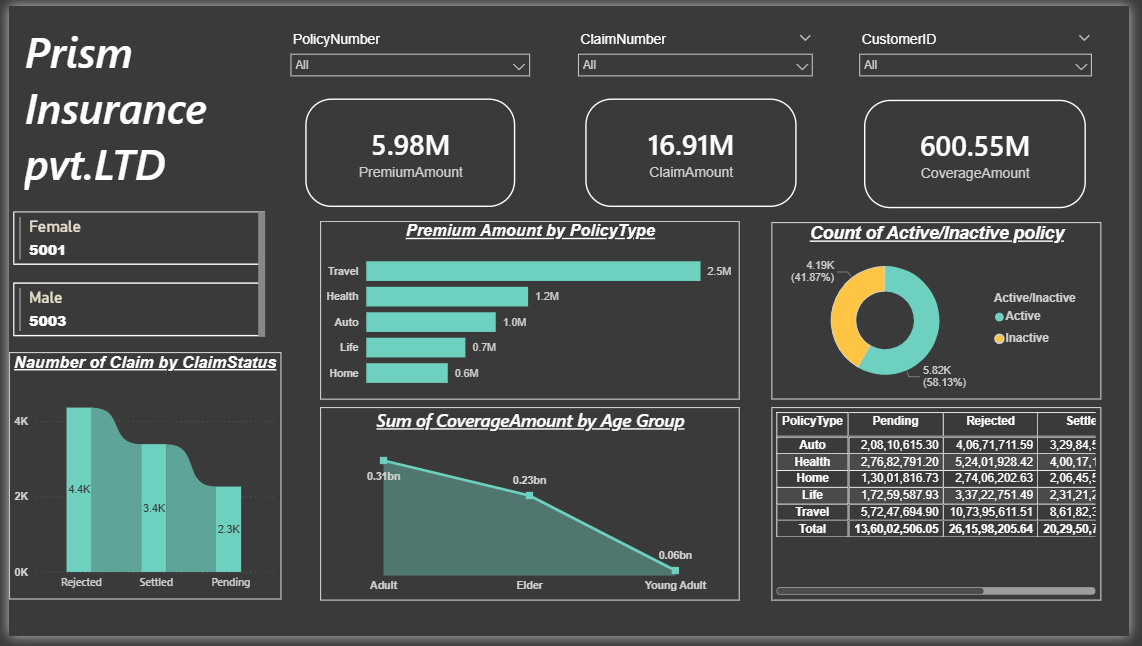

The dashboard page shown, as its layout file describes it:
{"tool":"powerbi","page":{"name":"Page 1","canvas":[1280,720],"ordinal":0},"visuals":[{"type":"slicer","fields":{"Values":["InsuranceData.PolicyNumber"]},"box":[311.2,23.8,293.8,82.5],"z":0},{"type":"slicer","fields":{"Values":["InsuranceData.ClaimNumber"]},"box":[640,23.8,288.8,82.5],"z":1000},{"type":"slicer","fields":{"Values":["InsuranceData.CustomerID"]},"box":[961.2,23.8,286.2,82.5],"z":2000},{"type":"textbox","box":[12.3,13.7,229.2,233.3],"z":3000},{"type":"cardVisual","fields":{"Data":["Sum(InsuranceData.PremiumAmount)"]},"box":[338.8,106.2,240,123.8],"z":4000},{"type":"cardVisual","fields":{"Data":["Sum(InsuranceData.ClaimAmount)"]},"box":[658.8,106.2,241.2,123.8],"z":5000},{"type":"cardVisual","fields":{"Data":["Sum(InsuranceData.CoverageAmount)"]},"box":[977.5,107.5,253.8,123.8],"z":6000},{"type":"multiRowCard","fields":{"Values":["InsuranceData.Gender","CountNonNull(InsuranceData.Gender)"]},"box":[0,230,297.5,165],"z":7000},{"type":"ribbonChart","title":"Naumber of Claim by ClaimStatus","fields":{"Category":["InsuranceData.ClaimStatus"],"Y":["CountNonNull(InsuranceData.ClaimStatus)"]},"box":[0,395,311.2,282.5],"z":8000},{"type":"barChart","title":"Premium Amount by PolicyType","fields":{"Category":["InsuranceData.PolicyType"],"Y":["Sum(InsuranceData.PremiumAmount)"]},"box":[355.9,246.1,479,203.9],"z":9000},{"type":"lineChart","fields":{"Category":["InsuranceData.Age Group"],"Y":["Sum(InsuranceData.CoverageAmount)"]},"box":[355.9,458.4,479,220.8],"z":10000},{"type":"donutChart","title":"Count of Active/Inactive policy","fields":{"Category":["InsuranceData.Active/Inactive"],"Y":["CountNonNull(InsuranceData.Active/Inactive)"]},"box":[871.1,247.3,376.4,202.7],"z":11000},{"type":"pivotTable","fields":{"Values":["Sum(InsuranceData.CoverageAmount)"],"Rows":["InsuranceData.PolicyType"],"Columns":["InsuranceData.ClaimStatus"]},"box":[871.1,458.4,376.4,220.8],"z":12000}]}

Visuals, with their boxes in screenshot pixels (x1, y1, x2, y2), scaled from the page's 1280x720 canvas onto the 1142x646 screenshot:
slicer - InsuranceData.PolicyNumber: detection(278, 21, 540, 95)
slicer - InsuranceData.ClaimNumber: detection(571, 21, 829, 95)
slicer - InsuranceData.CustomerID: detection(858, 21, 1113, 95)
textbox: detection(11, 12, 215, 222)
cardVisual - Sum(InsuranceData.PremiumAmount): detection(302, 95, 516, 206)
cardVisual - Sum(InsuranceData.ClaimAmount): detection(588, 95, 803, 206)
cardVisual - Sum(InsuranceData.CoverageAmount): detection(872, 96, 1099, 208)
multiRowCard - InsuranceData.Gender x CountNonNull(InsuranceData.Gender): detection(0, 206, 265, 354)
"Naumber of Claim by ClaimStatus" ribbonChart: detection(0, 354, 278, 608)
"Premium Amount by PolicyType" barChart: detection(318, 221, 745, 404)
lineChart - InsuranceData.Age Group x Sum(InsuranceData.CoverageAmount): detection(318, 411, 745, 609)
"Count of Active/Inactive policy" donutChart: detection(777, 222, 1113, 404)
pivotTable - Sum(InsuranceData.CoverageAmount) x InsuranceData.PolicyType: detection(777, 411, 1113, 609)
